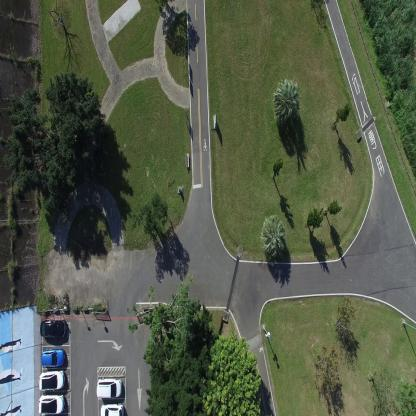car: (38, 369, 65, 391), (37, 394, 64, 416), (96, 377, 123, 398), (40, 319, 67, 339), (40, 348, 65, 367), (100, 402, 125, 415)
